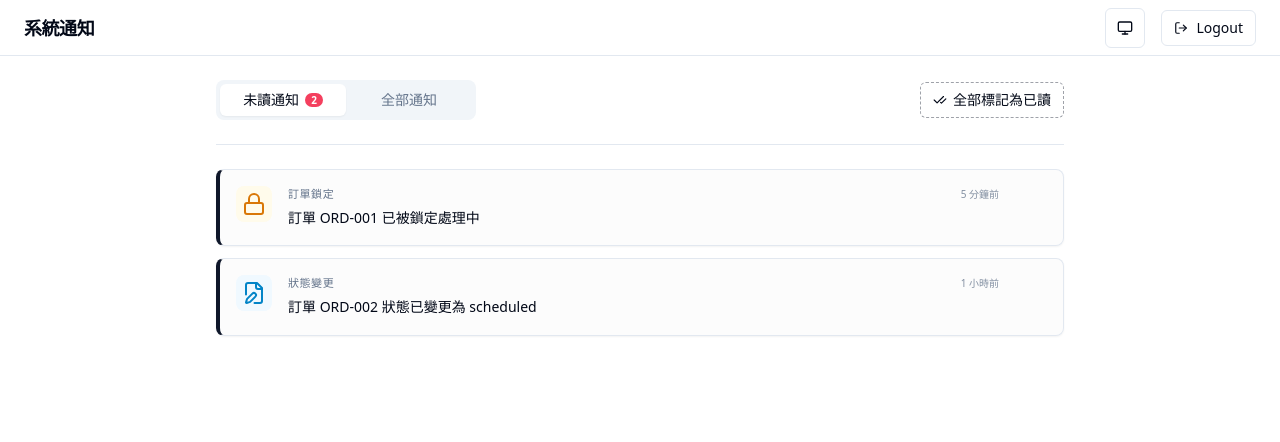
NotificationsPage › switches between Unread and All tabs and displays correct counts
Expected: the text "訂單 ORD-001 已被鎖定處理中" is shown, [288,208,480,226]
# Tap All tab
Click the button "全部通知". click: (409,100)
box: [346,84,472,116]
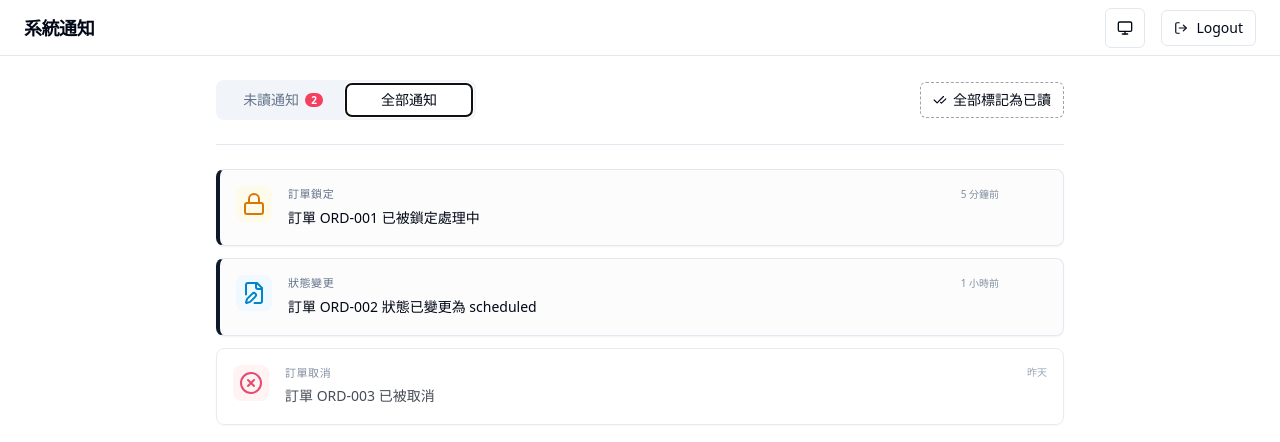
Expected: the text "訂單 ORD-001 已被鎖定處理中" is shown, [288,208,480,226]
Result: the text "訂單 ORD-003 已被取消" is shown at [285,386,435,405]
